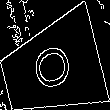O_W: (27, 40, 76, 96)
